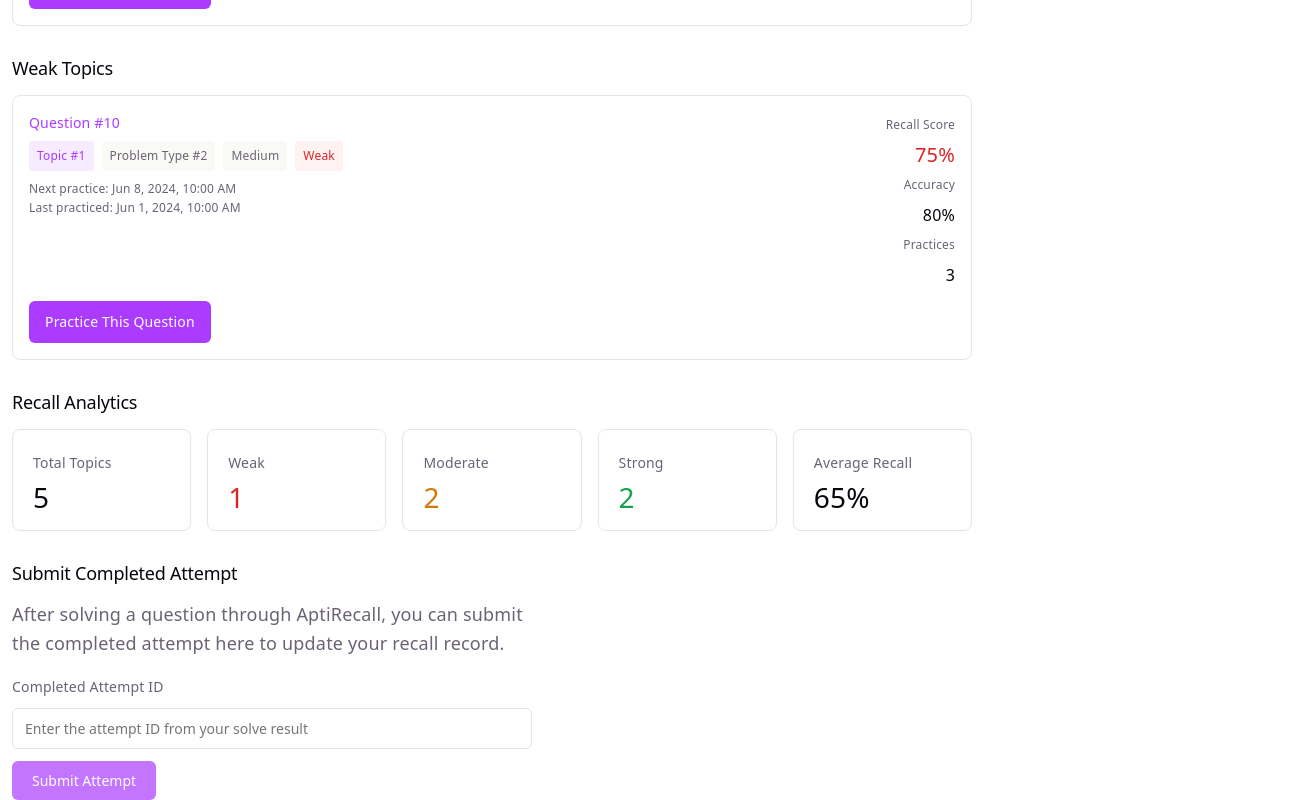
Recall › shows error when submit fails
(page scrolled)
Type "5" into the number field labelled "Completed Attempt ID". click: (272, 728)
box: left=12, top=708, right=532, bottom=749
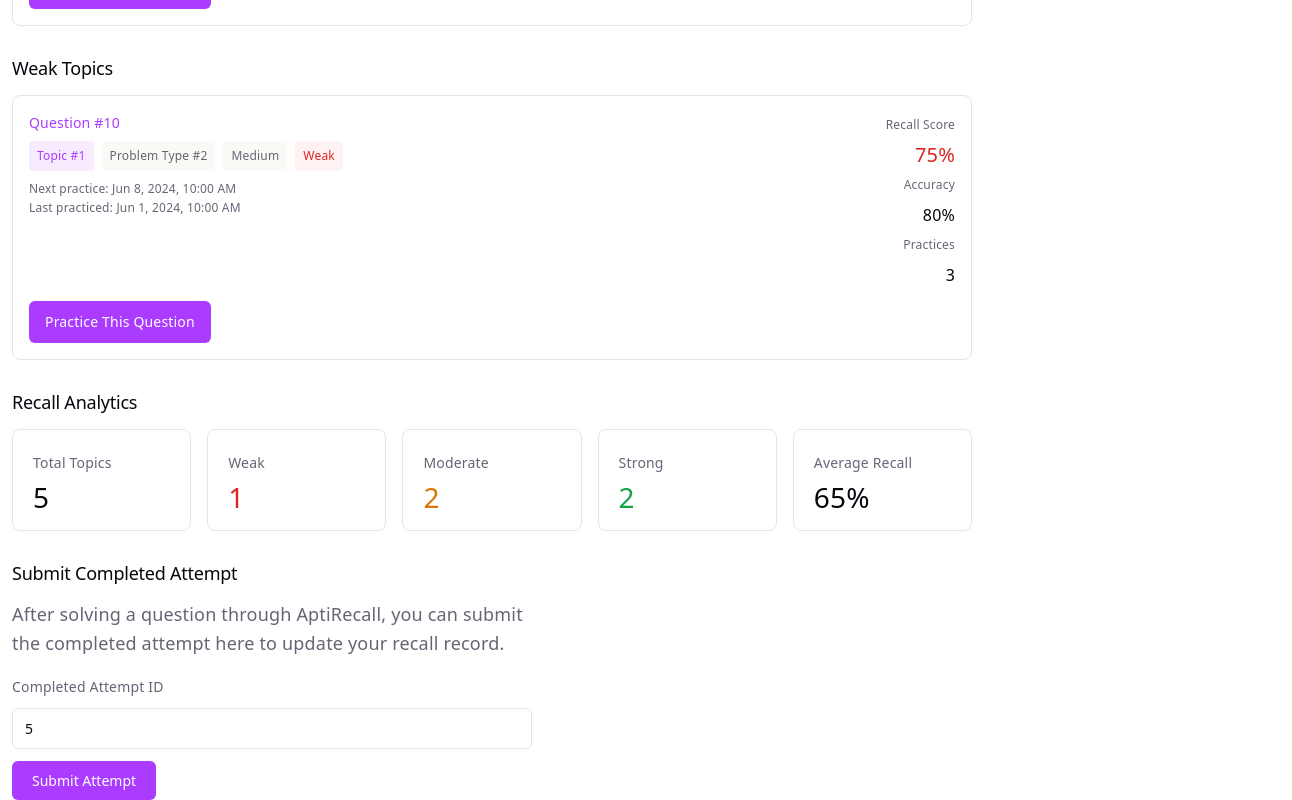
Click the button "Submit Attempt". click: (84, 780)
box: left=12, top=761, right=156, bottom=799
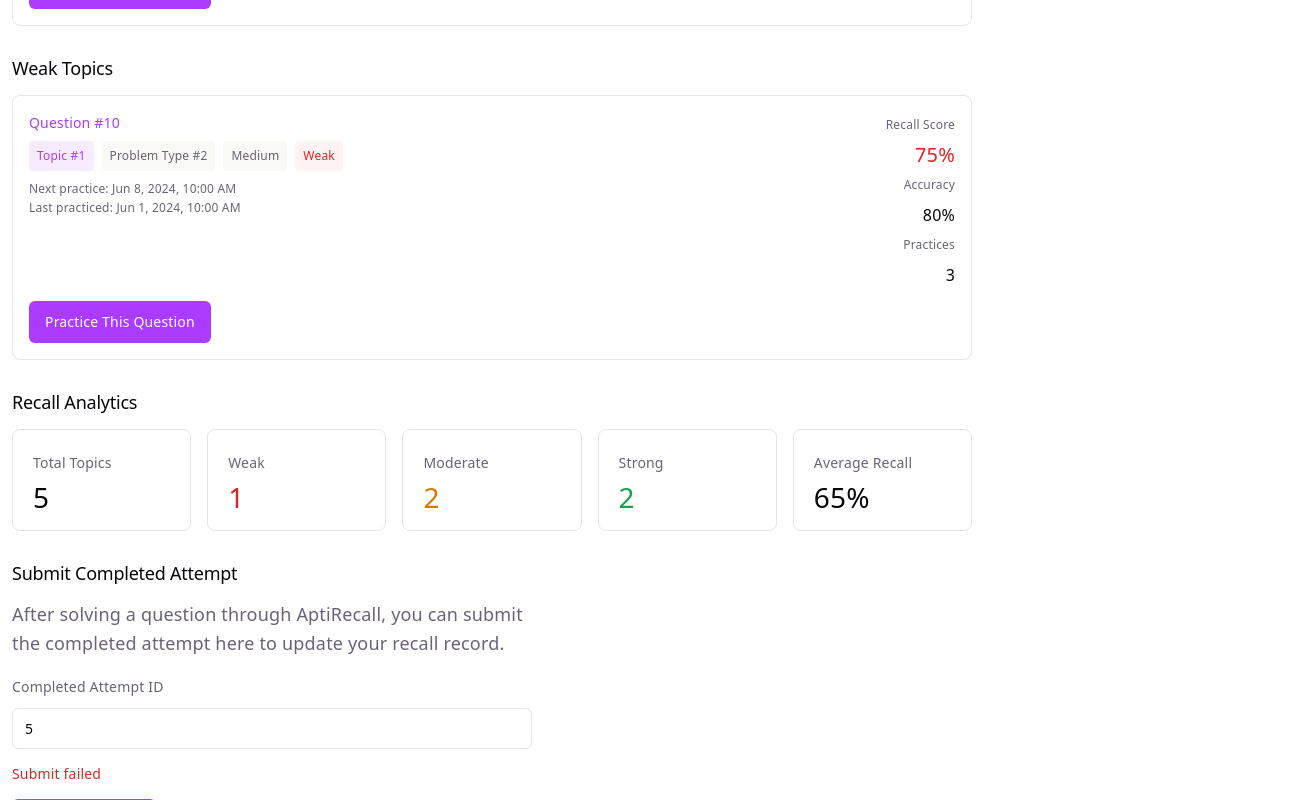
Expected: the text "Submit failed" is shown, left=12, top=764, right=101, bottom=783
